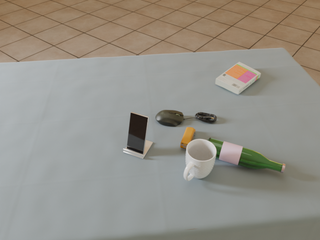book: (216, 62, 261, 94)
bottle: (208, 138, 285, 173)
cup: (184, 139, 217, 181)
mouse: (156, 110, 185, 126)
phone: (127, 112, 149, 154)
toy_car: (180, 127, 195, 149)
